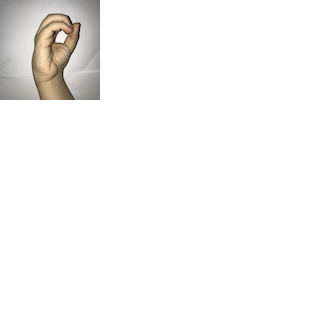rock: (24, 12, 82, 85)
